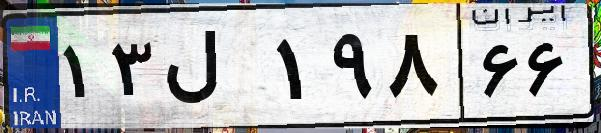1: (270, 28, 330, 110), (57, 26, 110, 100)
3: (110, 28, 158, 98)
6: (475, 38, 525, 113), (525, 38, 570, 115)
8: (385, 28, 445, 110)
9: (330, 28, 385, 110)
ل: (158, 20, 270, 120)
